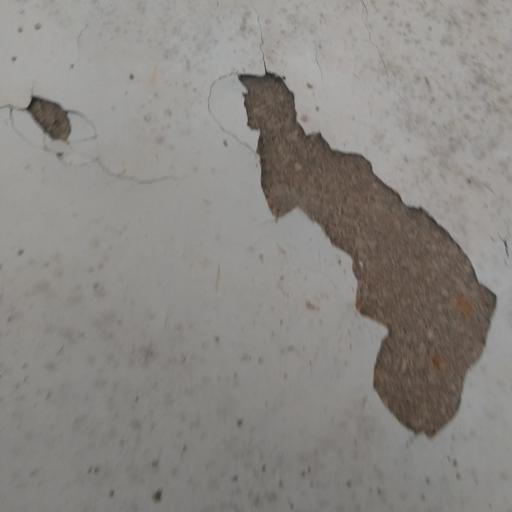peeling: (217, 55, 501, 454), (4, 75, 120, 184)
